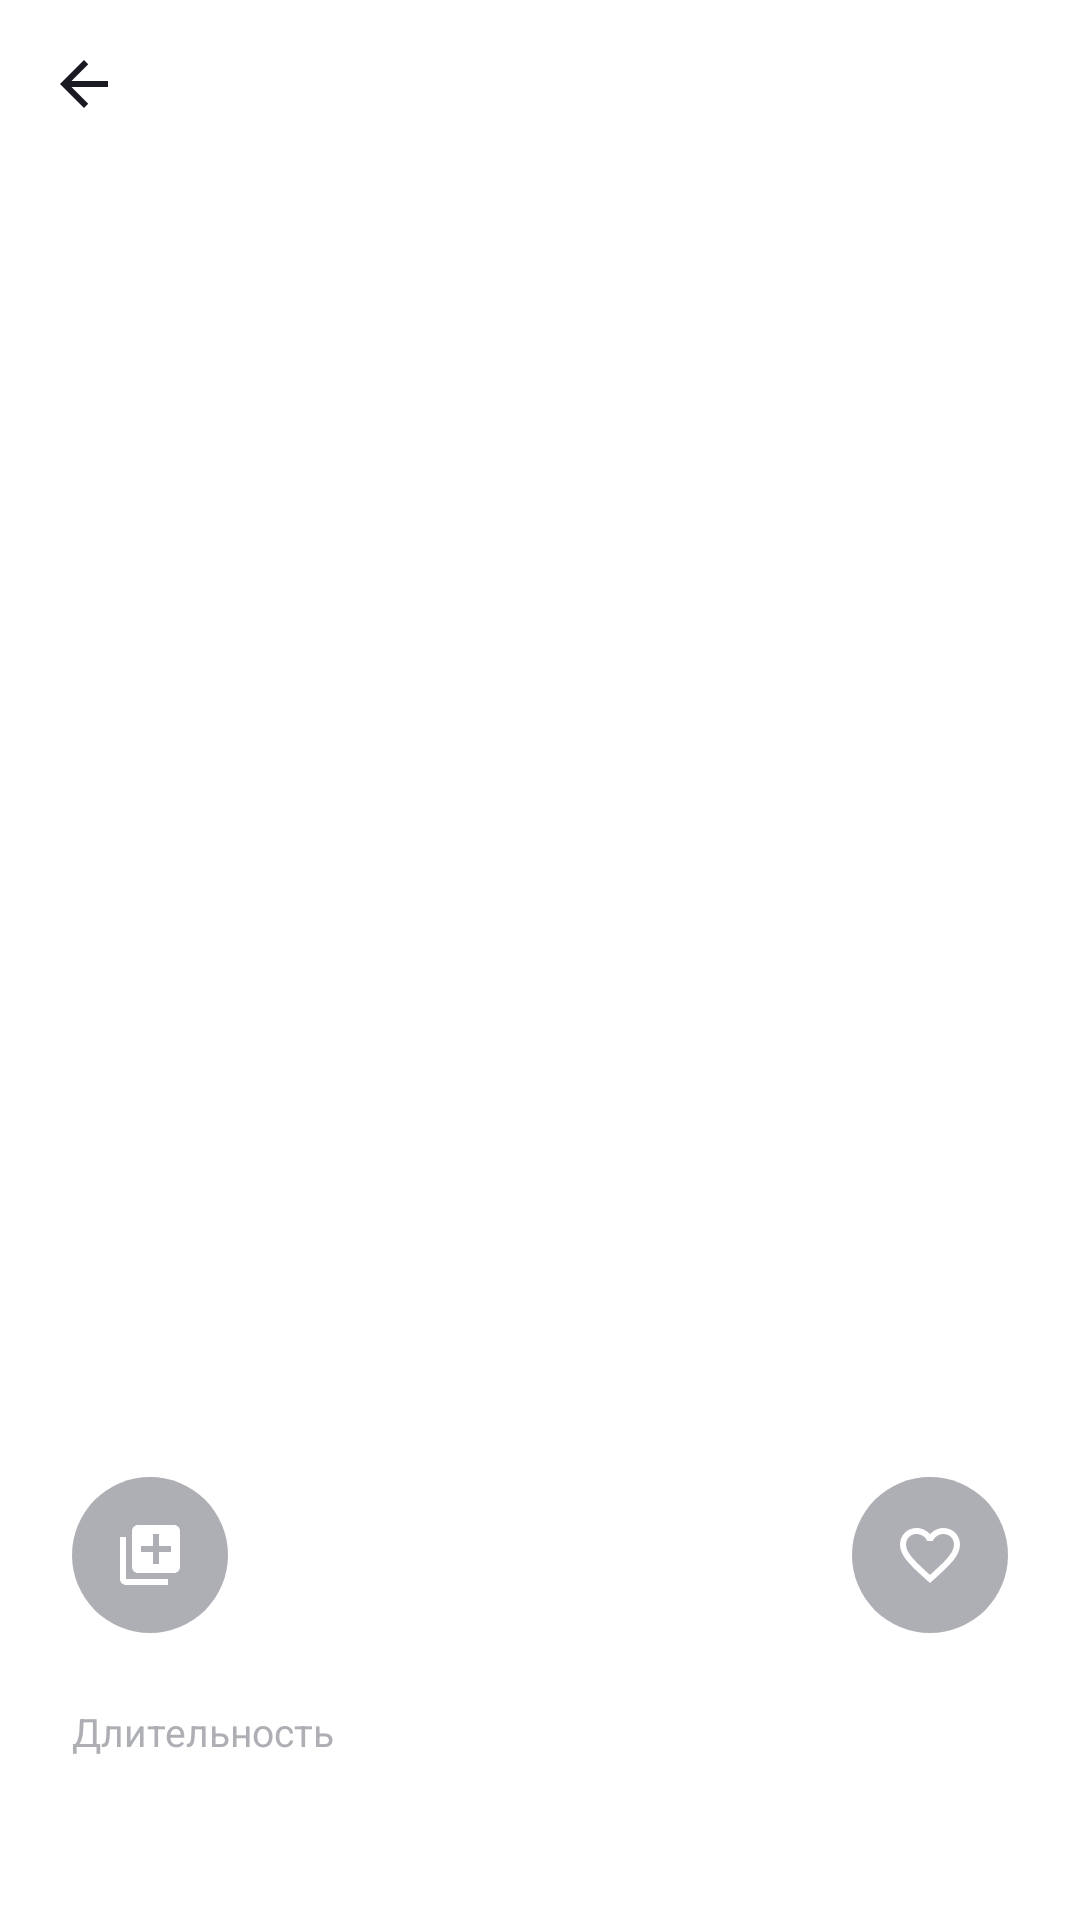

Point at icon controls on the screen. Image size 1080*1920, points as point (x, y).
Добавить в плейлист: point (150, 1555)
Избранное: point (930, 1555)
